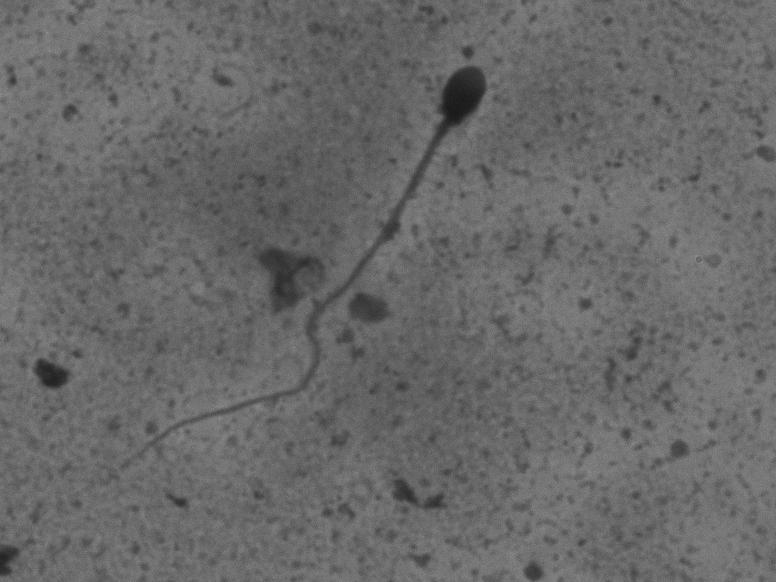Normal: (79, 56, 510, 495)
